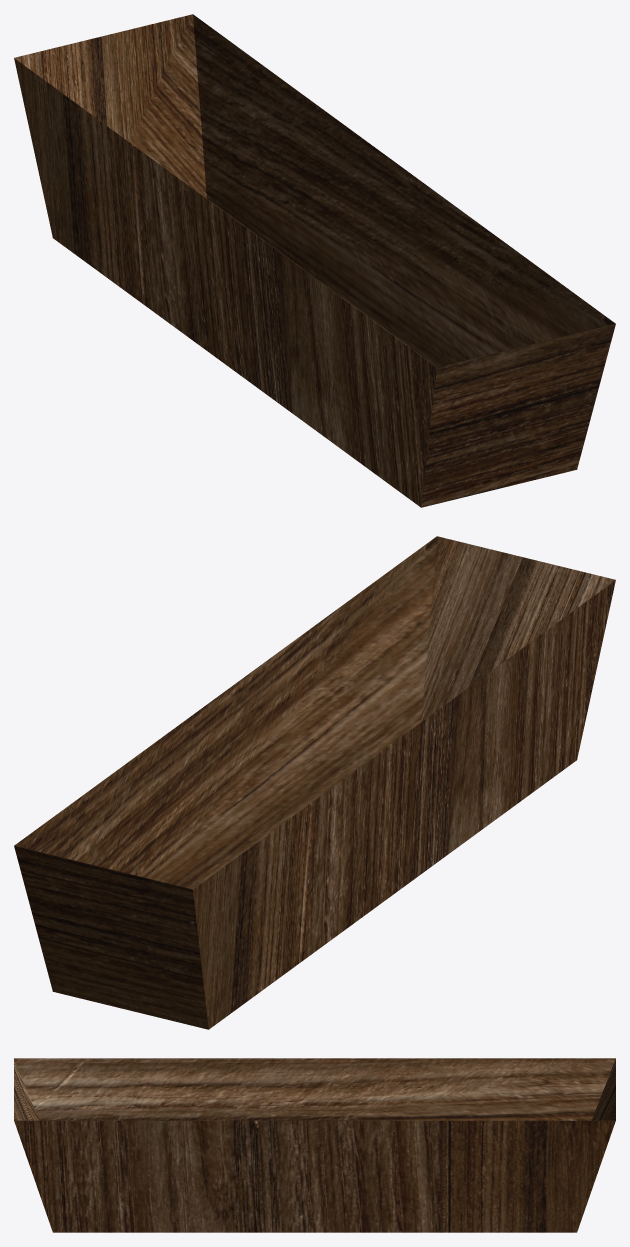
Rendered from watertrough.obj.
3 renders of one model, top to bottom at view 1: azimuth 30°, elevation 25°; view 2: azimuth 150°, elevation 25°; view 3: azimuth 270°, elevation 25°, orthographic. The views are drawn at different scales.
Parts seen in each view (by area): view 1: Cube; view 2: Cube; view 3: Cube.
Part boxes in pixels (bbox=[...]): Cube: bbox=[14, 14, 615, 507]; Cube: bbox=[14, 536, 615, 1029]; Cube: bbox=[14, 1058, 615, 1232].
Bounding box in the file's own units: 2.3 × 2 × 9.4.
Materials: 1 (1 with a texture image).
